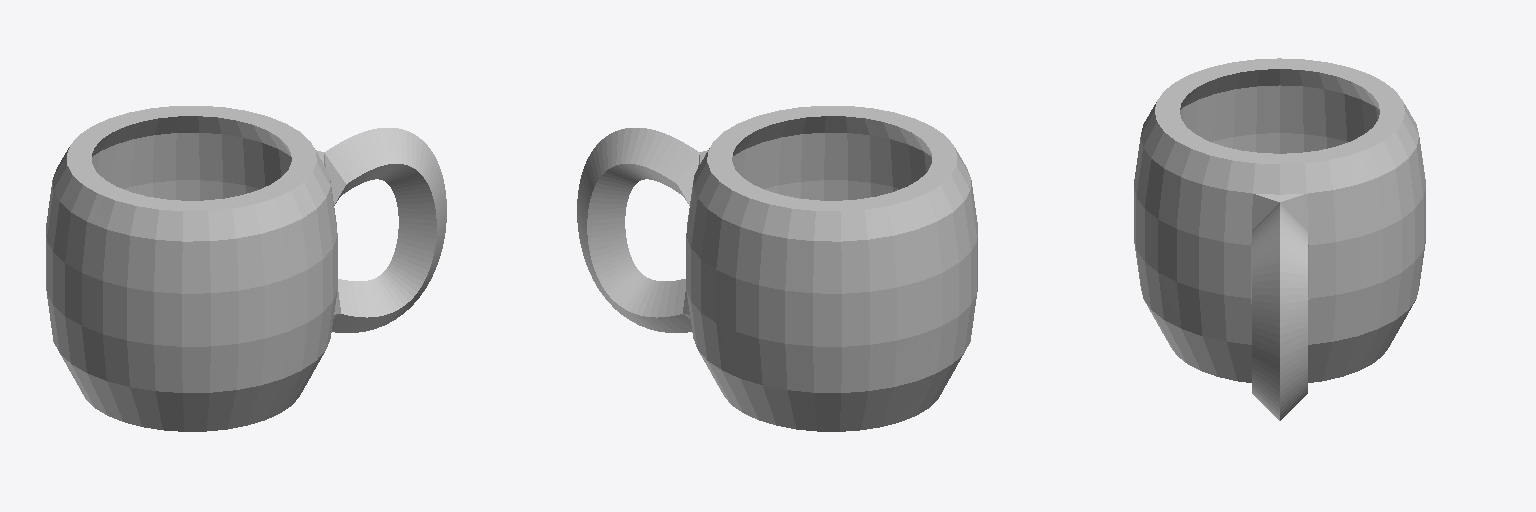
File: CoffeeCup.obj
The picture shows the model from 3 angles: view 1: azimuth 30°, elevation 25°; view 2: azimuth 150°, elevation 25°; view 3: azimuth 270°, elevation 25°; orthographic projection.
Parts seen in each view (by area): view 1: NurbsPath_Mesh; view 2: NurbsPath_Mesh; view 3: NurbsPath_Mesh.
Boxes of the visible parts, x1,y1,x2,y2 form: NurbsPath_Mesh: [46, 106, 446, 431]; NurbsPath_Mesh: [577, 106, 977, 431]; NurbsPath_Mesh: [1134, 58, 1425, 420].
Size of the model in its own units: 0.0096 by 0.0054 by 0.0063.